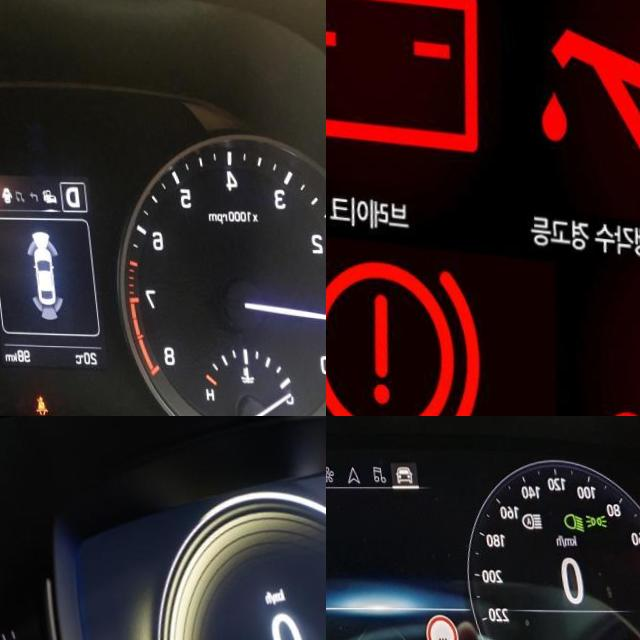Low beam: (557, 511, 579, 533)
SideLamp: (578, 510, 603, 527)
